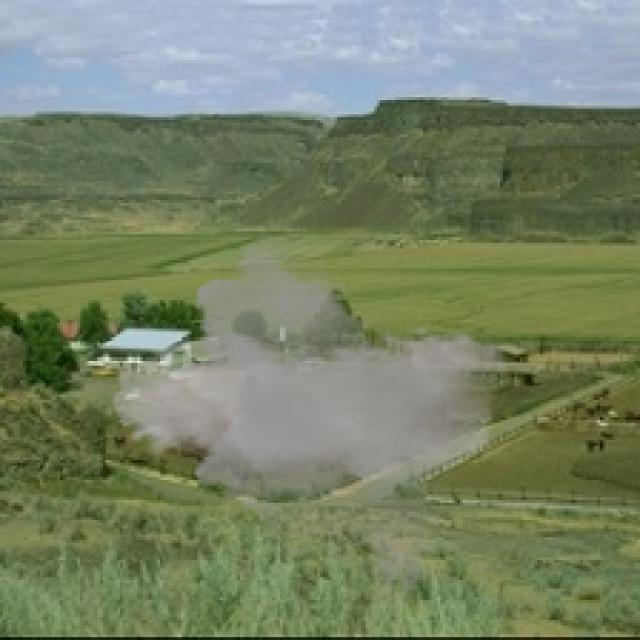Smoke: (111, 231, 512, 600)
